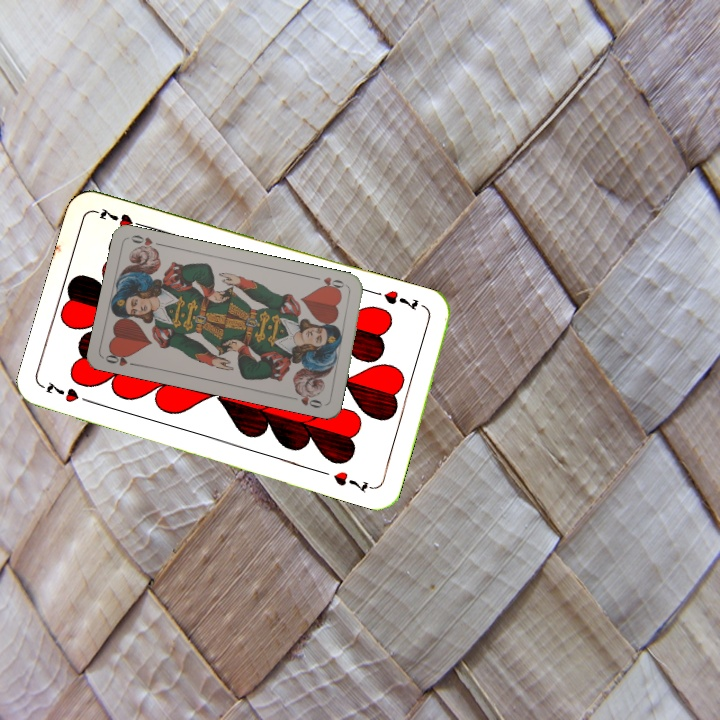H7: (40, 378, 97, 407), (379, 286, 421, 313)
HO: (311, 273, 351, 294), (101, 348, 141, 369)
